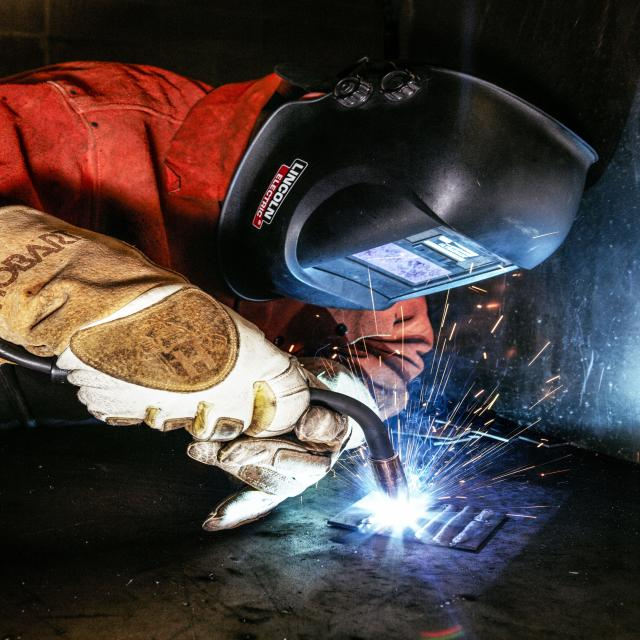welding: (376, 491, 423, 524)
